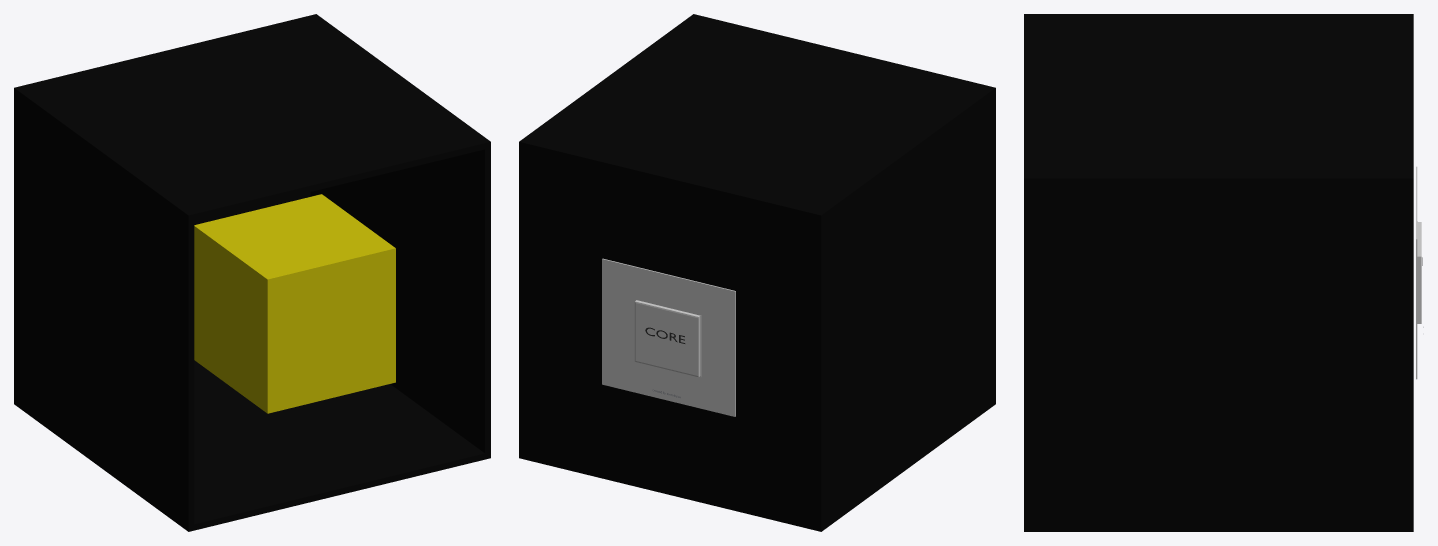
3 views of the same model, side by side, from view 1: azimuth 30°, elevation 25°; view 2: azimuth 150°, elevation 25°; view 3: azimuth 270°, elevation 25° (orthographic). The views are drawn at different scales.
Visible parts, largest first — view 1: Cube; view 2: Cube, Plane; view 3: Cube, Plane.
Part boxes in pixels (<box>): Cube: <box>14,14,490,531</box>; Cube: <box>519,14,995,531</box>; Plane: <box>602,258,735,416</box>; Cube: <box>1024,14,1413,531</box>; Plane: <box>1416,166,1421,379</box>.
Bounding box in the file's own units: 3.32 × 3.32 × 3.41.
